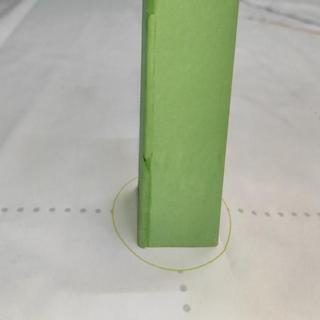greenbox: (140, 1, 239, 247)
